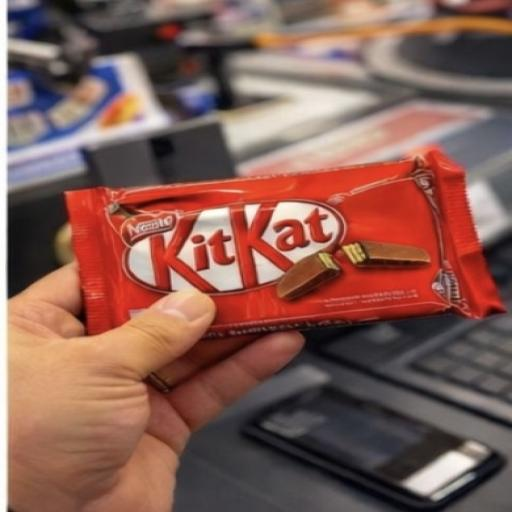kitkat: (37, 148, 512, 384)
